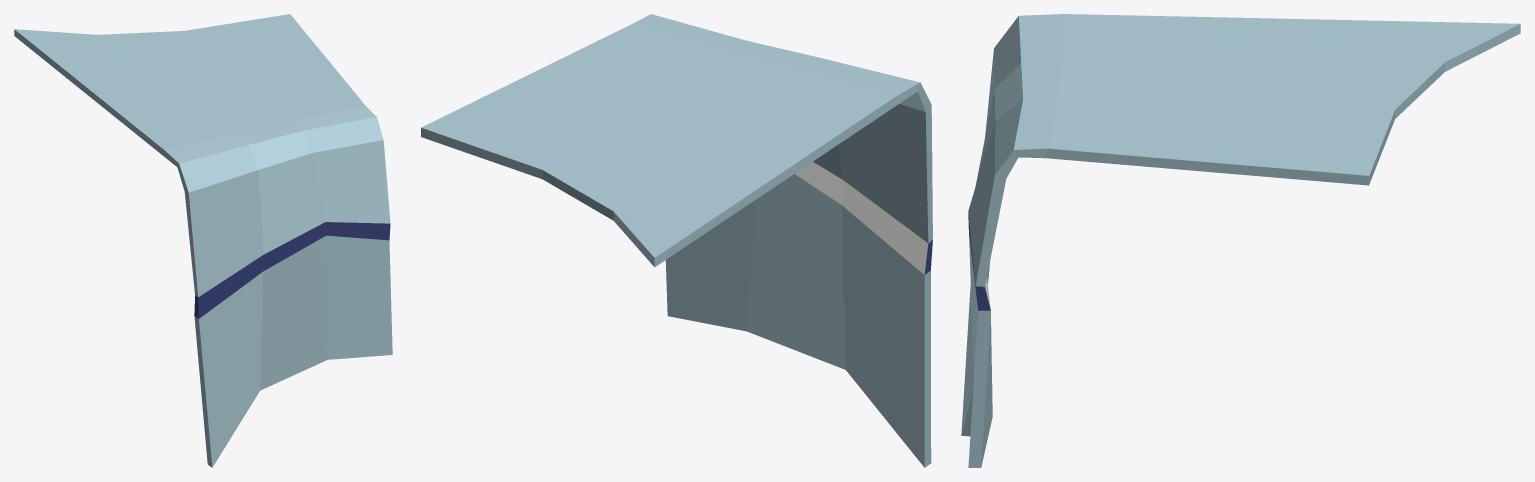
Rendered from Towel_10.fbx.
3 views of the same model, side by side, from view 1: azimuth 30°, elevation 25°; view 2: azimuth 150°, elevation 25°; view 3: azimuth 270°, elevation 25° (orthographic). The views are drawn at different scales.
Visible parts, largest first — view 1: Towel_10; view 2: Towel_10; view 3: Towel_10.
Boxes of the visible parts, x1=… form: Towel_10: x1=14, y1=14, x2=392, y2=467; Towel_10: x1=421, y1=14, x2=932, y2=467; Towel_10: x1=961, y1=14, x2=1520, y2=467.
Bounding box in the file's own units: 27.56 × 40.27 × 32.91.
